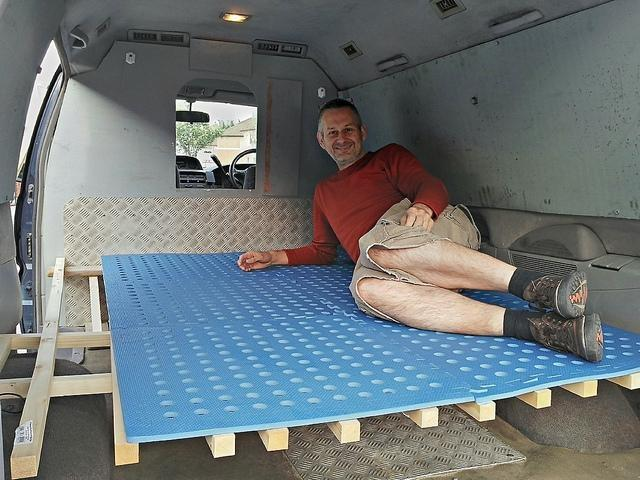truck: (175, 154, 209, 188)
